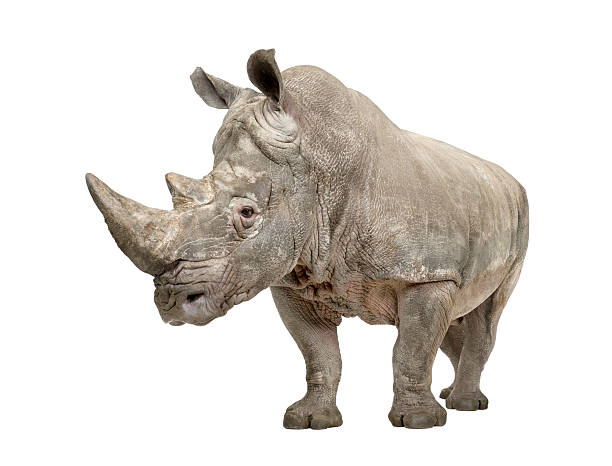rhino: (39, 42, 331, 359)
